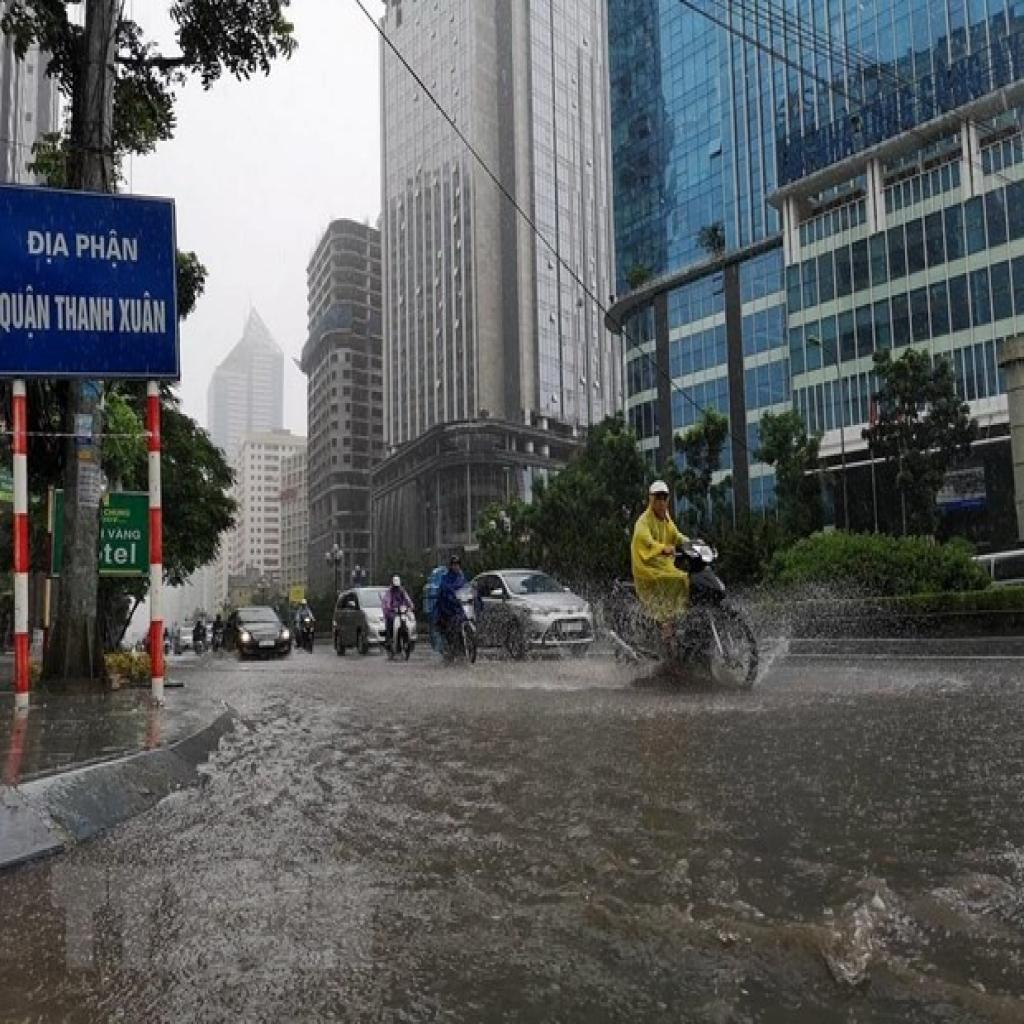text: (0, 284, 53, 344), (73, 224, 142, 270), (53, 291, 117, 337), (117, 289, 170, 339), (25, 227, 74, 266), (102, 540, 140, 568), (104, 524, 144, 544)
